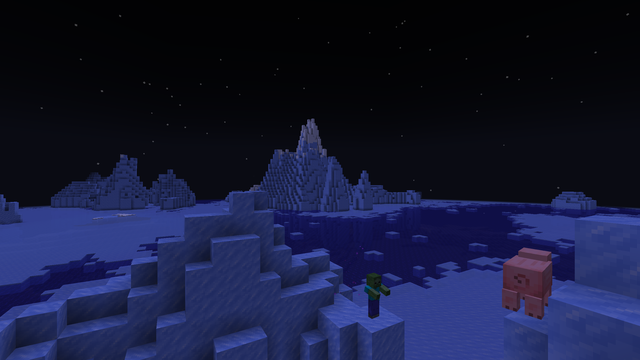cochons: (493, 253, 564, 319)
zombies: (364, 273, 381, 320)
